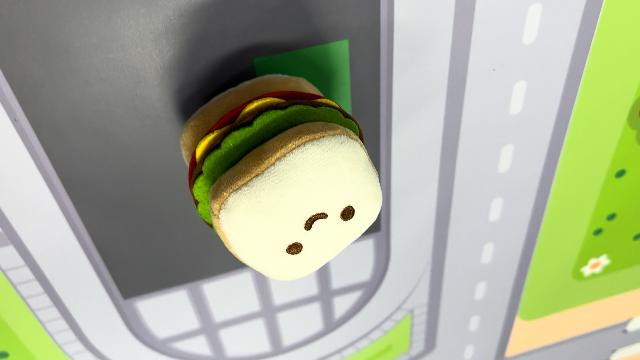sandwich: (177, 70, 385, 282)
